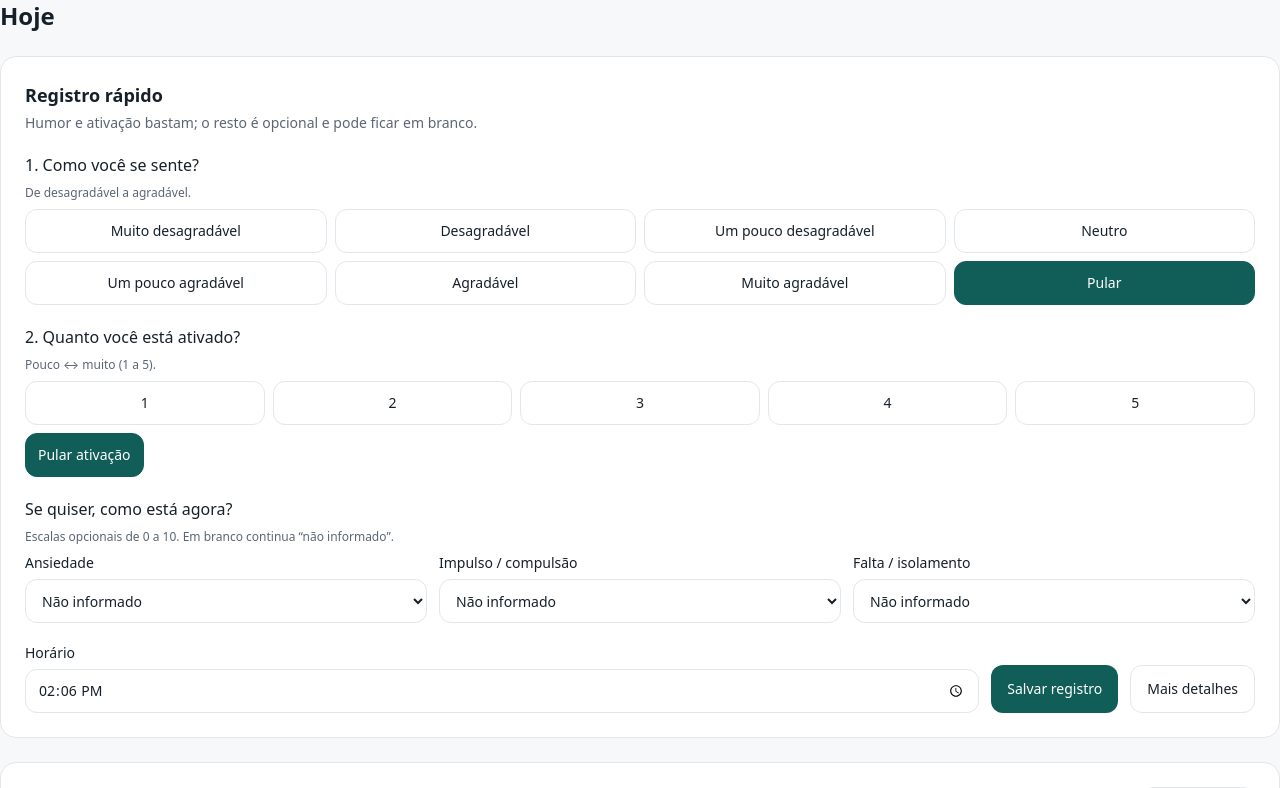
Test: TodayPage › abre o registro detalhado e salva mesmo sem registro rápido
This screenshot has width=1280, height=788.
Click the button "Mais detalhes" at (1193, 689), box [1130,665,1255,713]
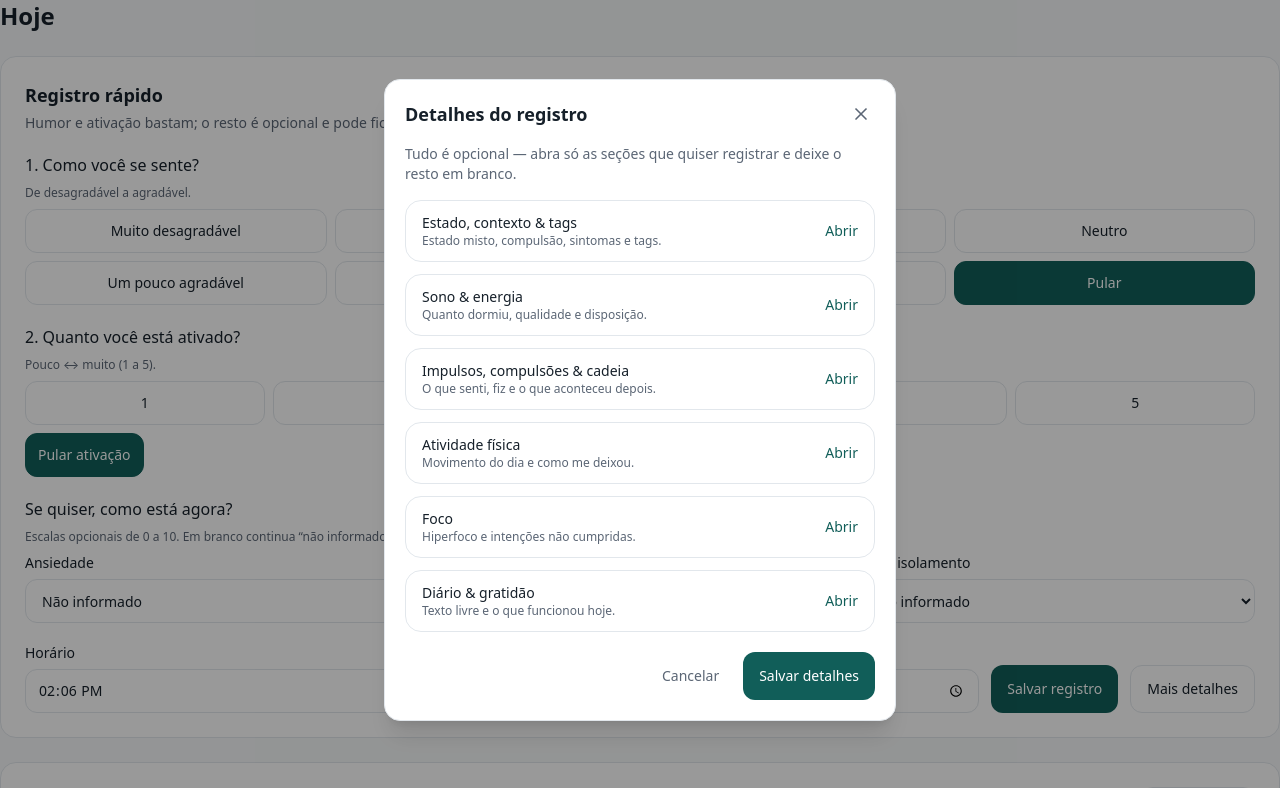
Click the button "Salvar detalhes" at (809, 676), box [743,652,875,700]
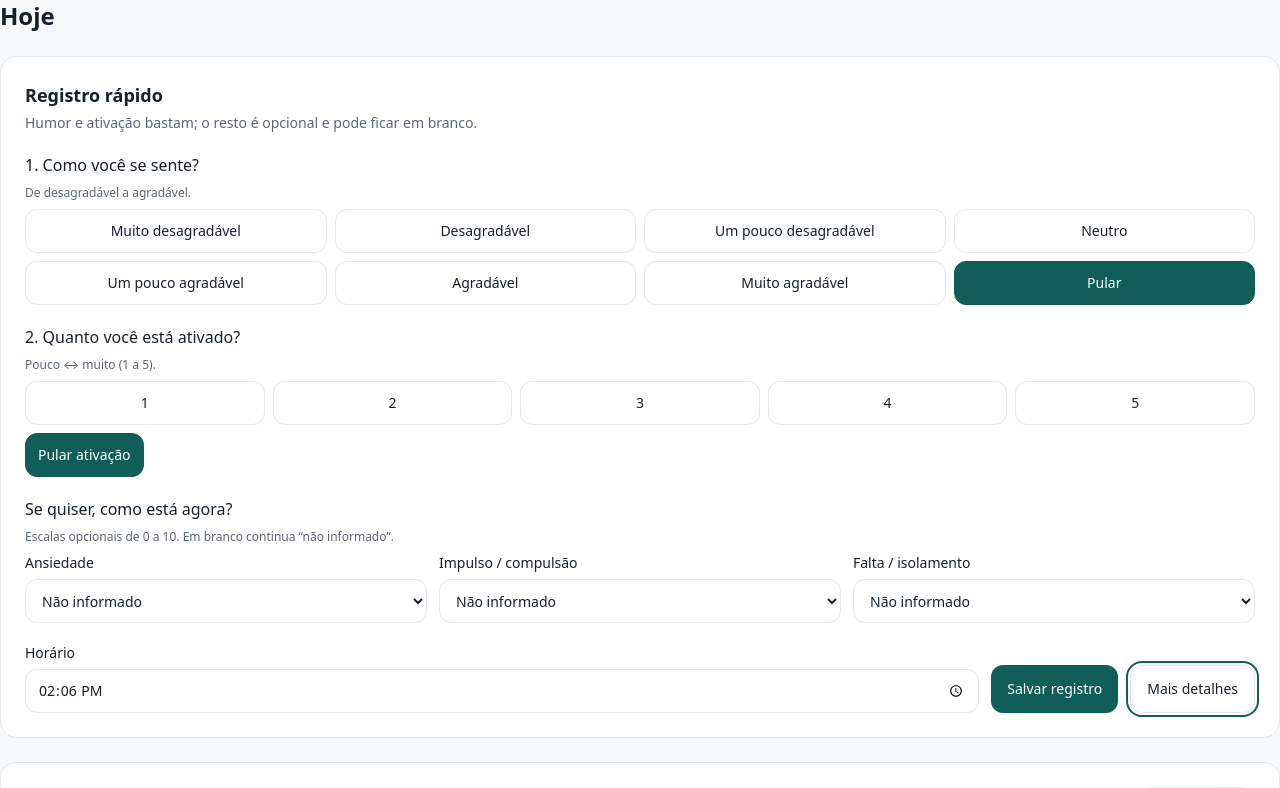
Result: the dialog is gone
